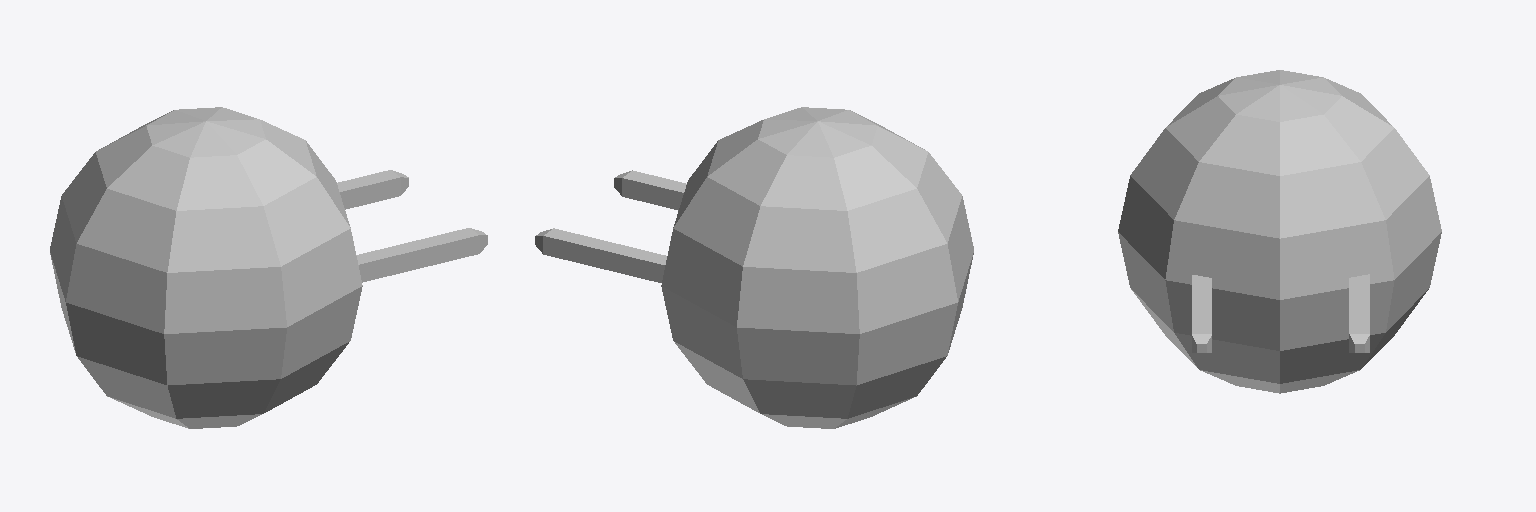
File: TurretsDoubleSmall.obj
3 views of the same model, side by side, from view 1: azimuth 30°, elevation 25°; view 2: azimuth 150°, elevation 25°; view 3: azimuth 270°, elevation 25° (orthographic).
Visible parts, largest first — view 1: turret, cube4_copy6, cube4_copy7; view 2: turret, cube4_copy7, cube4_copy6; view 3: turret, cube4_copy7, cube4_copy6.
Boxes of the visible parts, box(x1,y1,x2,y2) form: turret: box(50, 107, 362, 428); cube4_copy6: box(356, 228, 487, 282); cube4_copy7: box(337, 170, 408, 209); turret: box(661, 107, 973, 428); cube4_copy7: box(535, 228, 666, 282); cube4_copy6: box(614, 170, 686, 210); turret: box(1118, 70, 1441, 393); cube4_copy7: box(1349, 274, 1369, 352); cube4_copy6: box(1192, 275, 1211, 352).
Size of the model in its own units: 2.11 by 1.55 by 1.55.